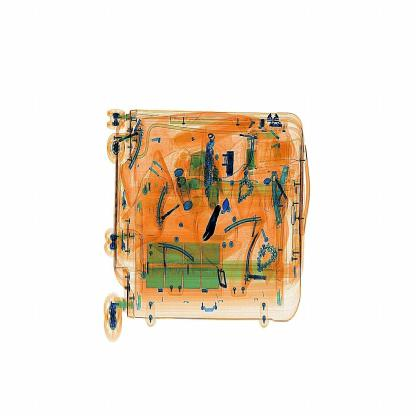knife: (202, 200, 220, 238)
